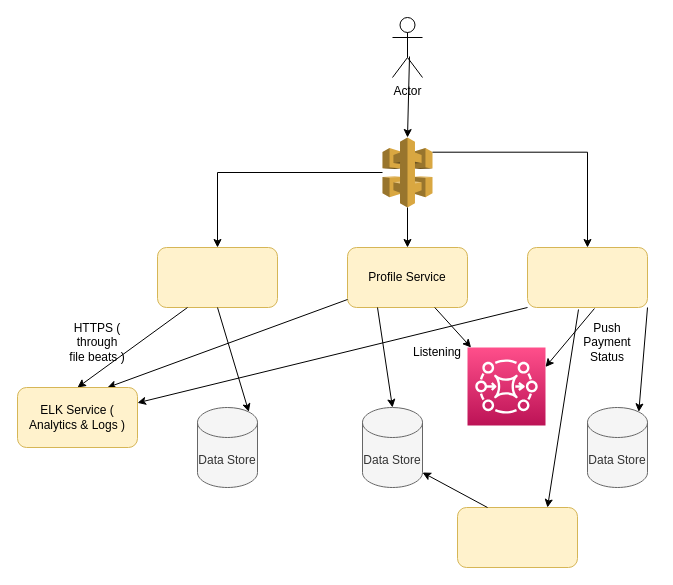
The diagram is 673 pixels wide and 585 high, and some of its shapes have lost their labels. Each missing label, with the box of its shape:
Auth Service: (156, 246, 278, 308)
Get Profile Data: (456, 506, 578, 568)
Payment Service: (526, 246, 648, 308)
